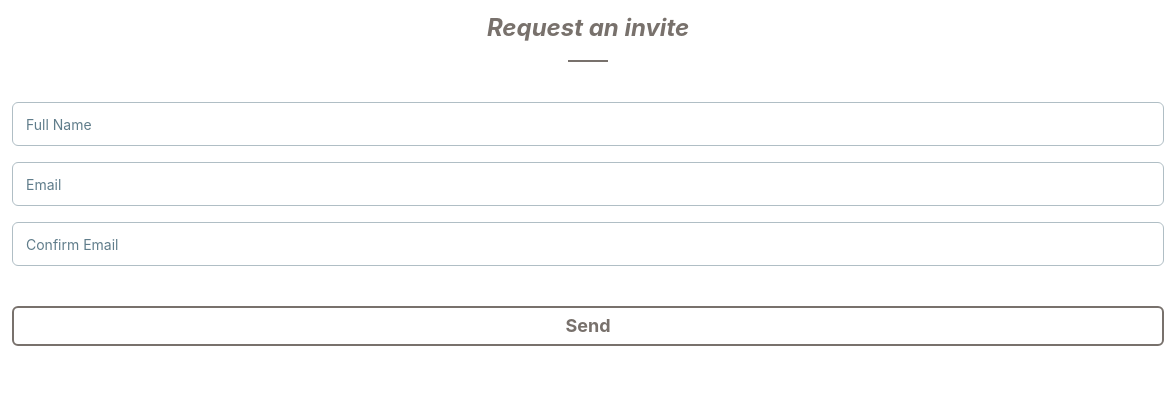
Test: should display full name input field less 3 characters validation
The image size is (1176, 395).
Type "ab" into the field with test id "input-full-name" at (588, 124), box [12,102,1164,146]
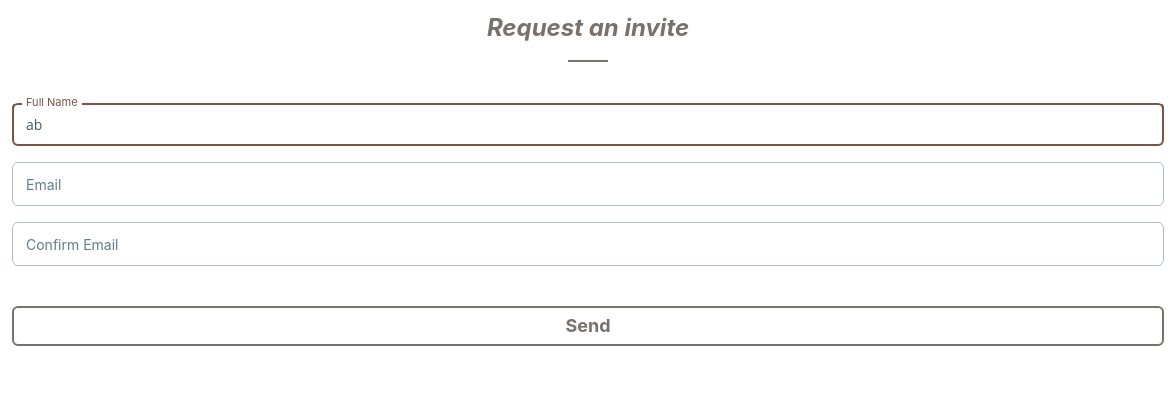
Press Tab
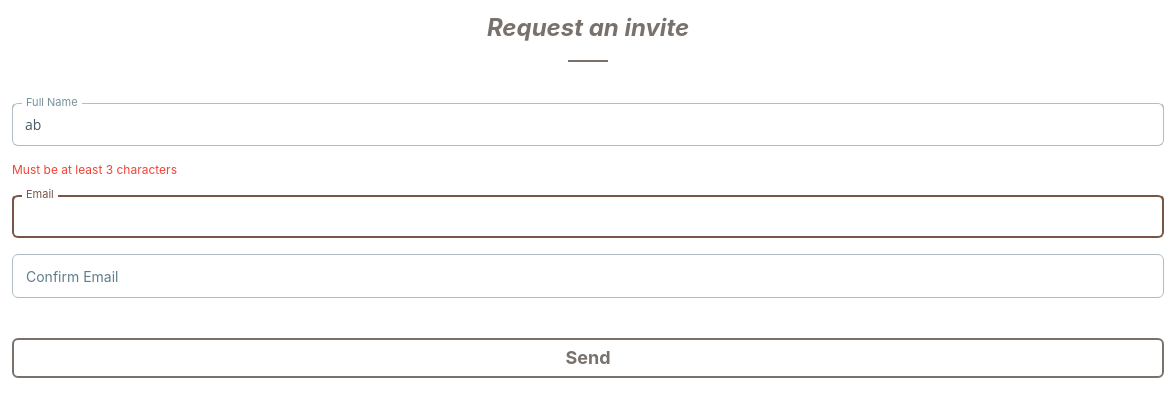
Now the text with test id "error-message" reads "Must be at least 3 characters", box [12,162,177,177]
